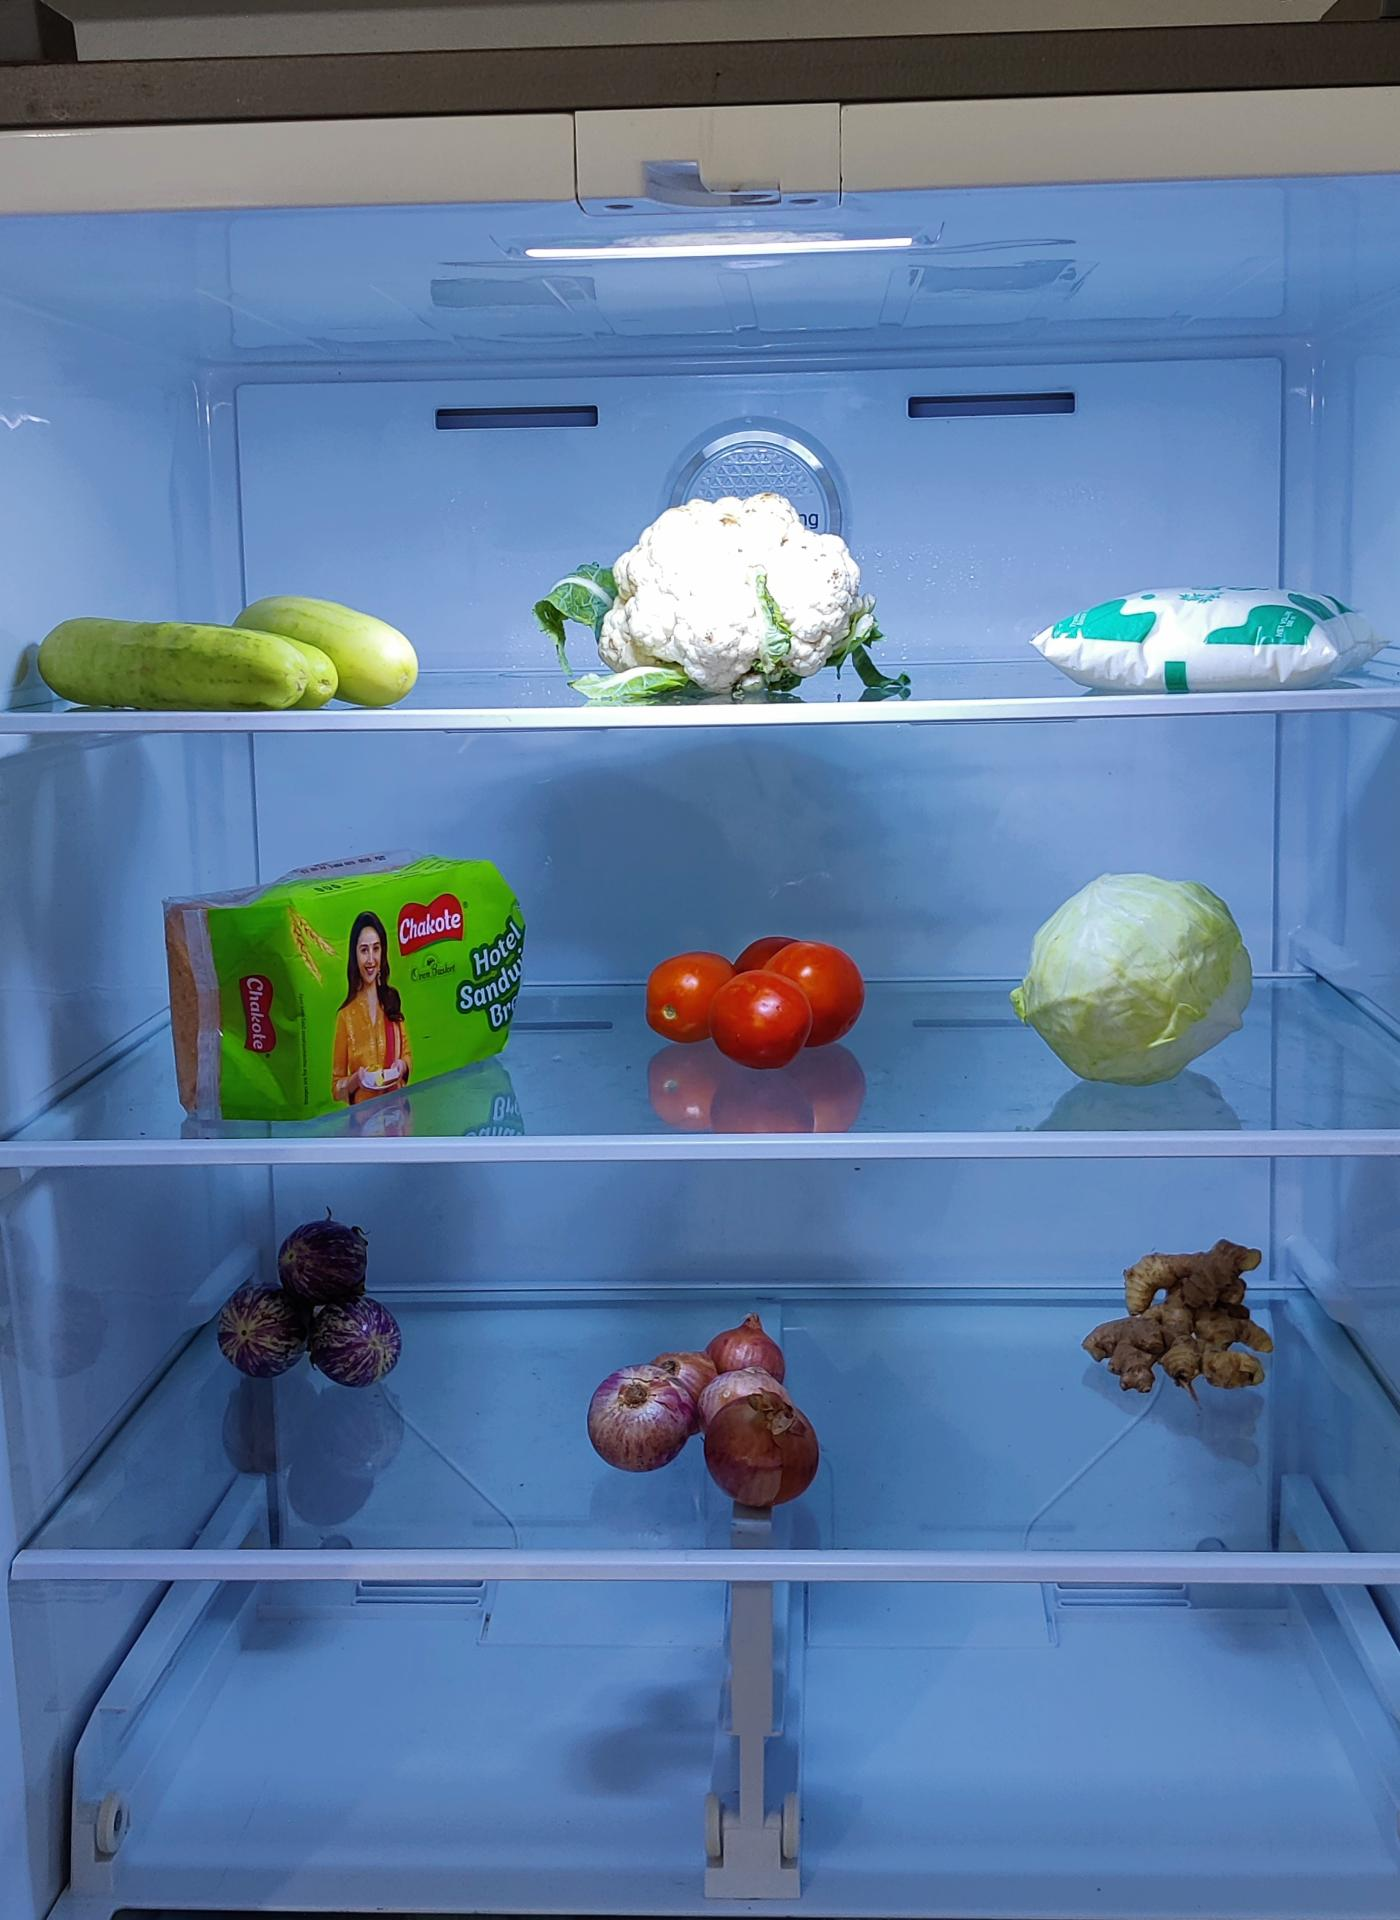bread: (157, 847, 535, 1120)
brinjal: (209, 1210, 410, 1398)
cabbage: (1009, 868, 1254, 1084)
cauliflower: (593, 501, 883, 701)
cucumber: (31, 599, 432, 726)
ginger: (1079, 1234, 1276, 1398)
milk: (1035, 583, 1388, 698)
onion: (589, 1316, 829, 1516)
tomato: (649, 936, 877, 1106)
